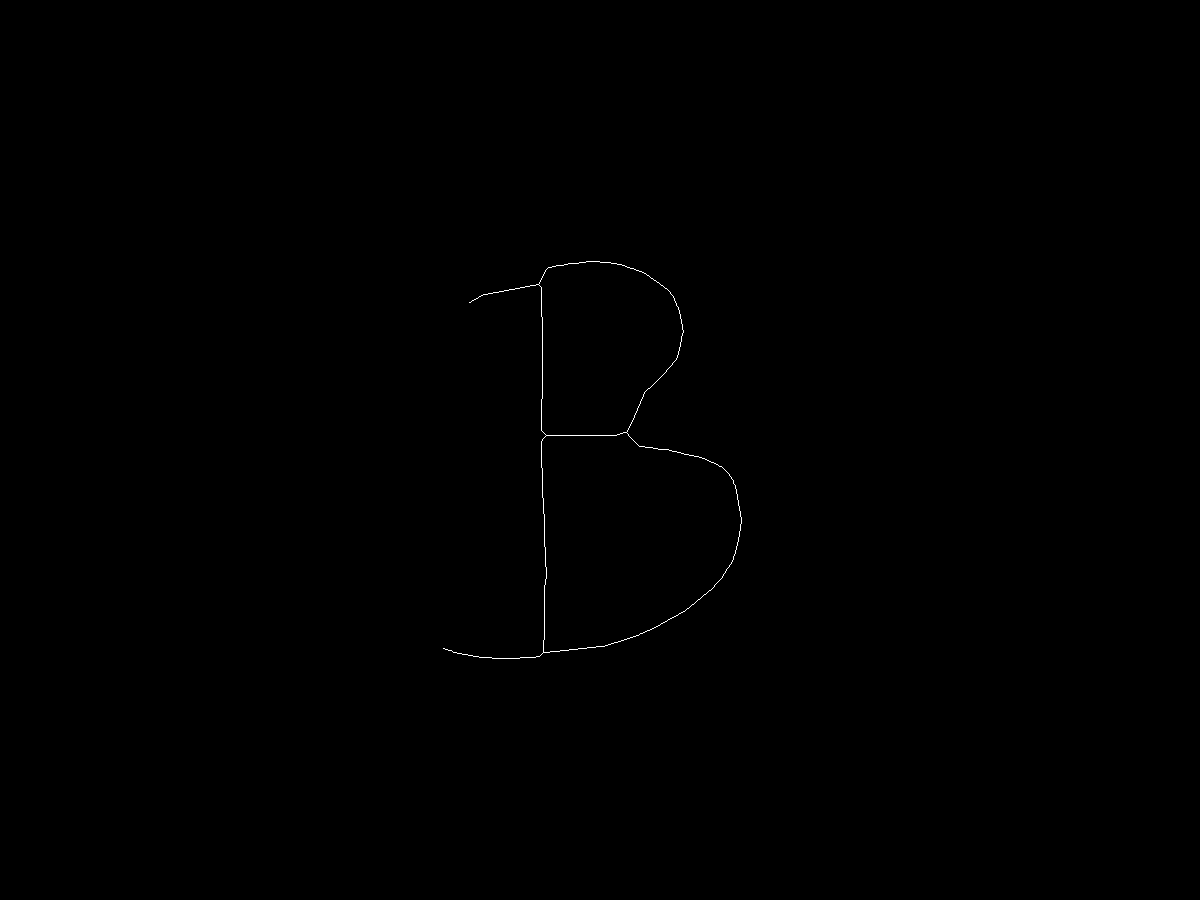dian1: (528, 276, 545, 293)
dian2: (533, 430, 549, 446)
dian3: (532, 645, 546, 659)
dian4: (616, 428, 629, 441)
